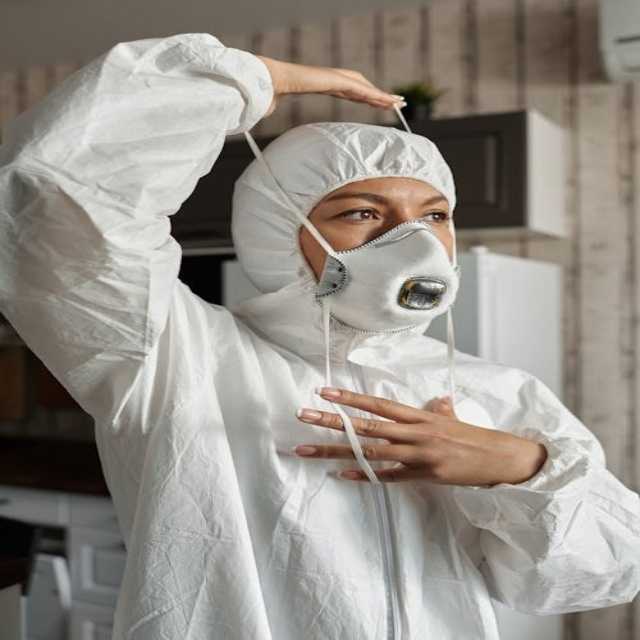Mascara: (311, 221, 458, 334)
Sin_gafas: (316, 183, 454, 226)
Sin_guantes: (293, 391, 533, 490), (234, 30, 421, 116)
